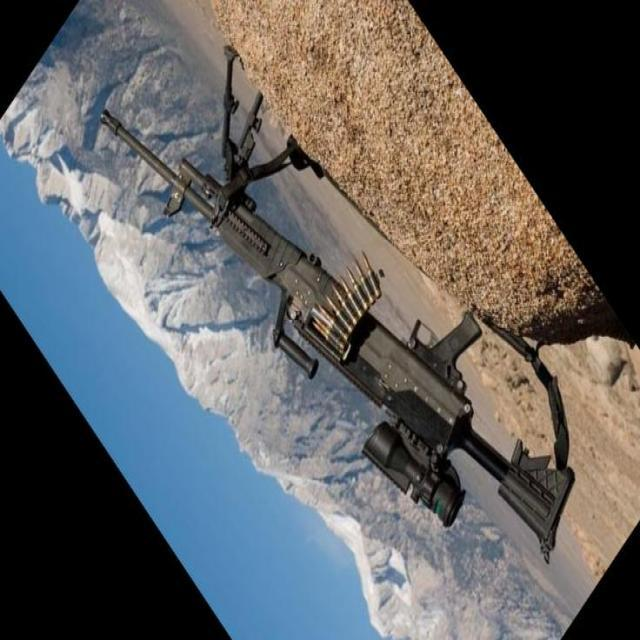weapon: (100, 42, 572, 568)
